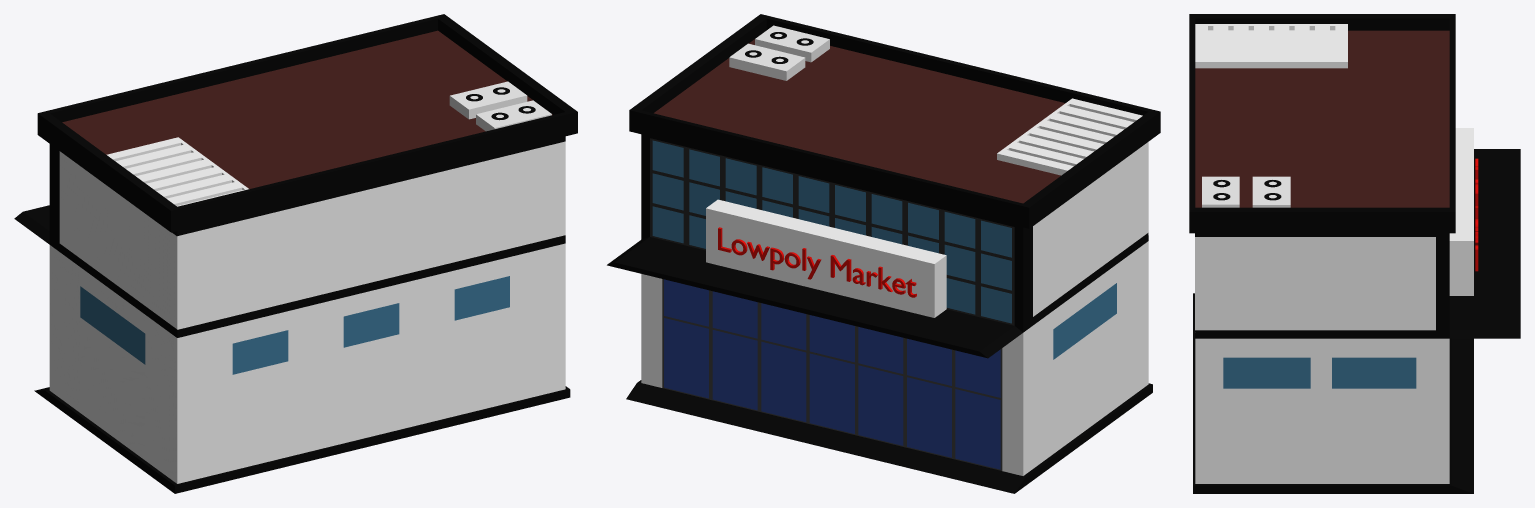
The model's file is market.fbx.
3 renders of one model, left to right at view 1: azimuth 30°, elevation 25°; view 2: azimuth 150°, elevation 25°; view 3: azimuth 270°, elevation 25°, orthographic.
Parts seen in each view (by area): view 1: wall, black, building_Top, glass, top_thing, top_thing2; view 2: black, door_glass, building_Top, wall, glass, Cube, glass_curv, top_thing, market_door, top_thing2, Text; view 3: wall, building_Top, black, top_thing, glass, Cube, top_thing2, Text.
Boxes of the visible parts, left/top/right/bottom form: wall: left=49, top=141, right=565, bottom=483; black: left=14, top=14, right=577, bottom=493; building_Top: left=62, top=30, right=552, bottom=188; glass: left=80, top=276, right=509, bottom=374; top_thing: left=106, top=137, right=248, bottom=206; top_thing2: left=449, top=81, right=551, bottom=131; black: left=607, top=14, right=1160, bottom=493; door_glass: left=664, top=279, right=1000, bottom=469; building_Top: left=654, top=39, right=1065, bottom=203; wall: left=641, top=142, right=1148, bottom=475; glass: left=652, top=140, right=1116, bottom=359; Cube: left=706, top=199, right=946, bottom=317; glass_curv: left=650, top=138, right=1014, bottom=325; top_thing: left=997, top=98, right=1142, bottom=175; market_door: left=662, top=279, right=1002, bottom=470; top_thing2: left=729, top=25, right=829, bottom=80; Text: left=718, top=227, right=916, bottom=297; wall: left=1195, top=237, right=1449, bottom=483; building_Top: left=1195, top=30, right=1449, bottom=207; black: left=1189, top=14, right=1520, bottom=493; top_thing: left=1195, top=24, right=1347, bottom=68; glass: left=1223, top=357, right=1416, bottom=388; Cube: left=1449, top=128, right=1473, bottom=295; top_thing2: left=1202, top=176, right=1290, bottom=207; Text: left=1475, top=158, right=1478, bottom=271.
Size of the model in its own units: 1445 by 970 by 1023.
